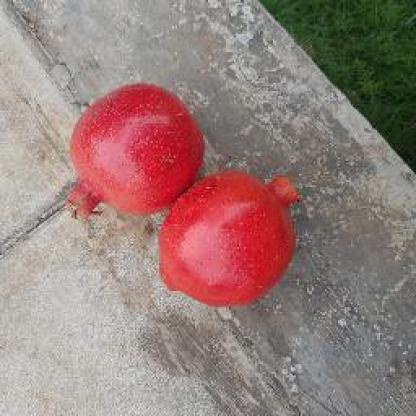pomegranate: (66, 82, 204, 228), (161, 172, 299, 302)
